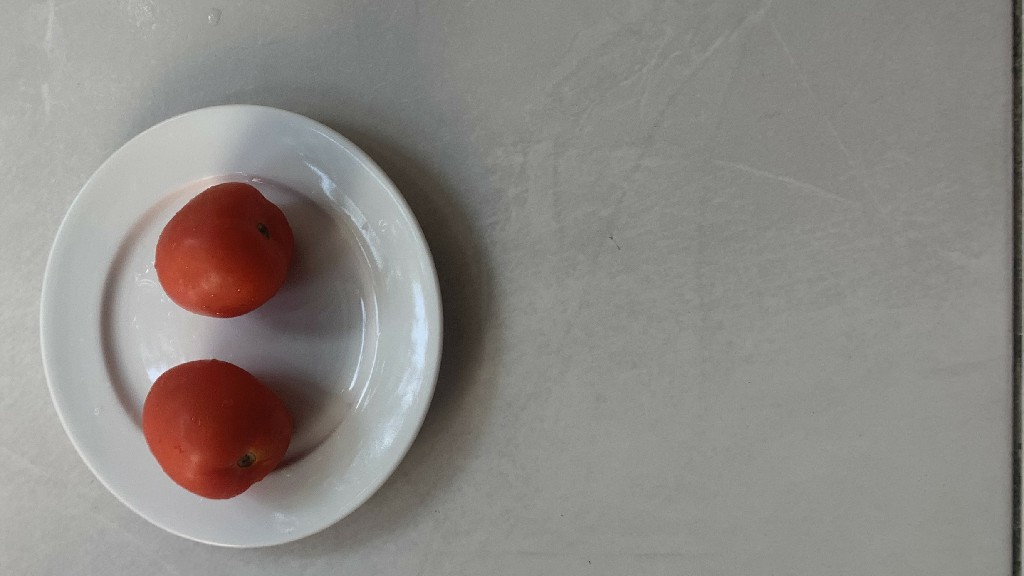OK: (143, 356, 293, 501), (151, 182, 299, 327)
